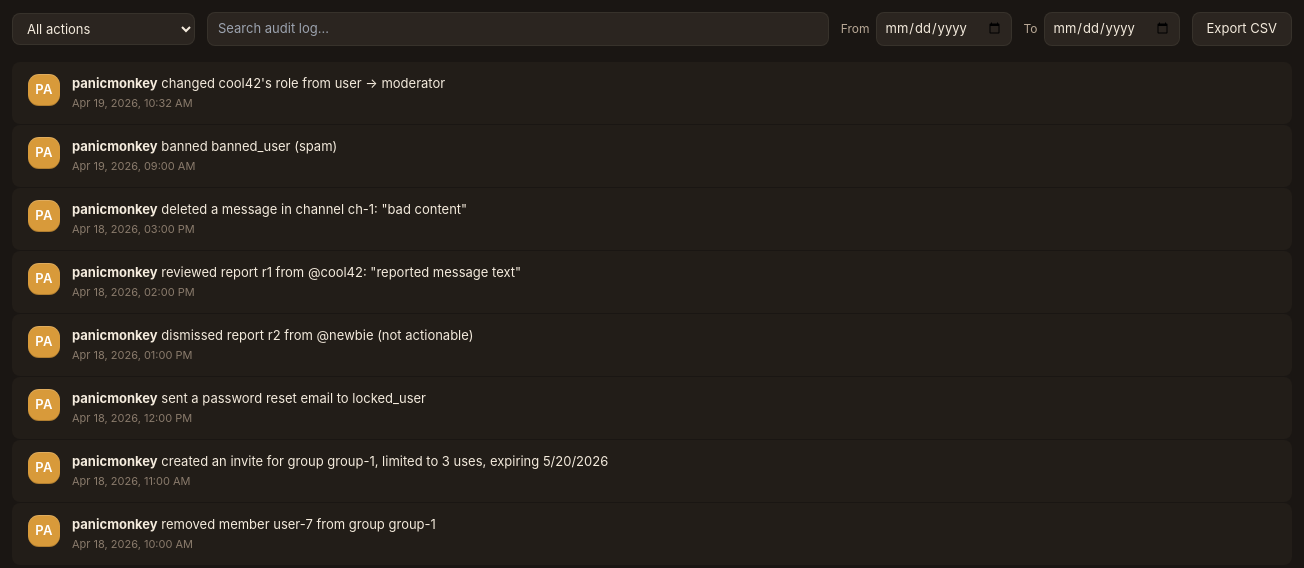
it: AuditLogList — filtering › filters entries by report review action type
The width and height of the screenshot is (1304, 568).
Select "Report Reviewed" in the dropdown with test id "audit-filter-action" at (104, 29), box [12, 13, 195, 45]
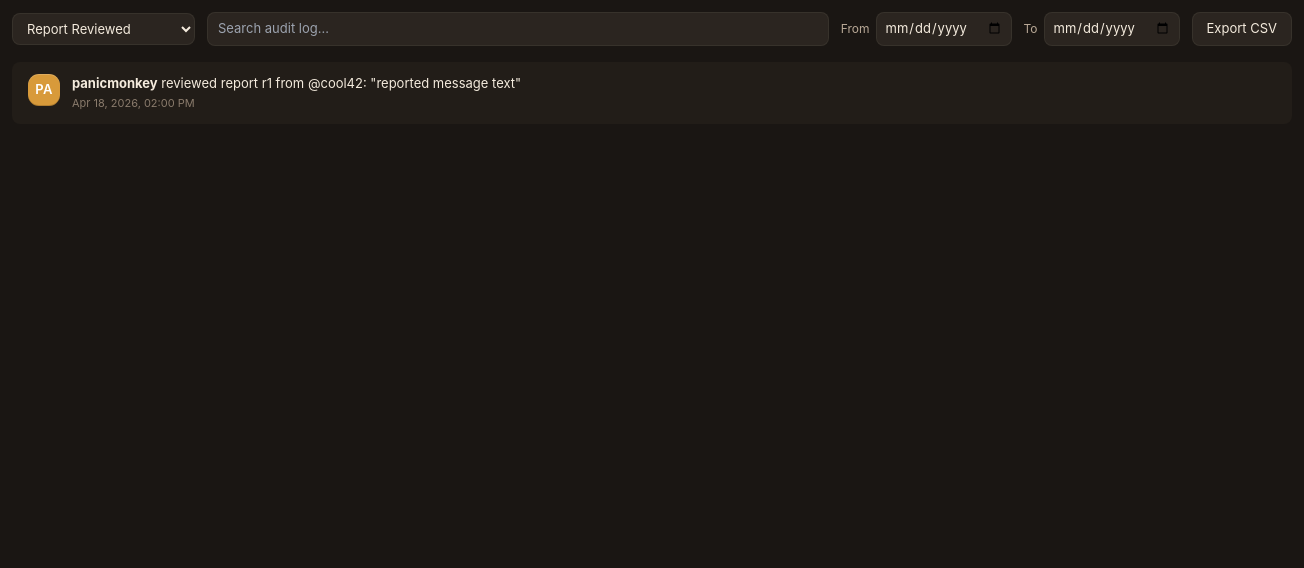
Check: the text "reviewed report r1" is shown, box [161, 74, 521, 90]
Check: the number of elements with class "audit-entry" is 1, box [12, 62, 1292, 124]
